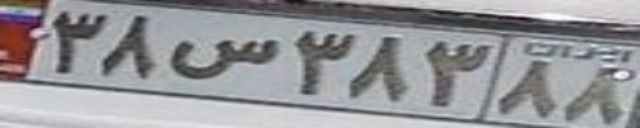3: (424, 39, 488, 108), (290, 29, 352, 96), (49, 9, 104, 75)
8: (351, 29, 409, 100), (104, 9, 158, 78), (564, 67, 624, 123), (499, 57, 554, 116)
sin: (168, 36, 278, 78)
